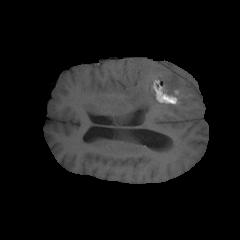glioma: (123, 62, 200, 116)
